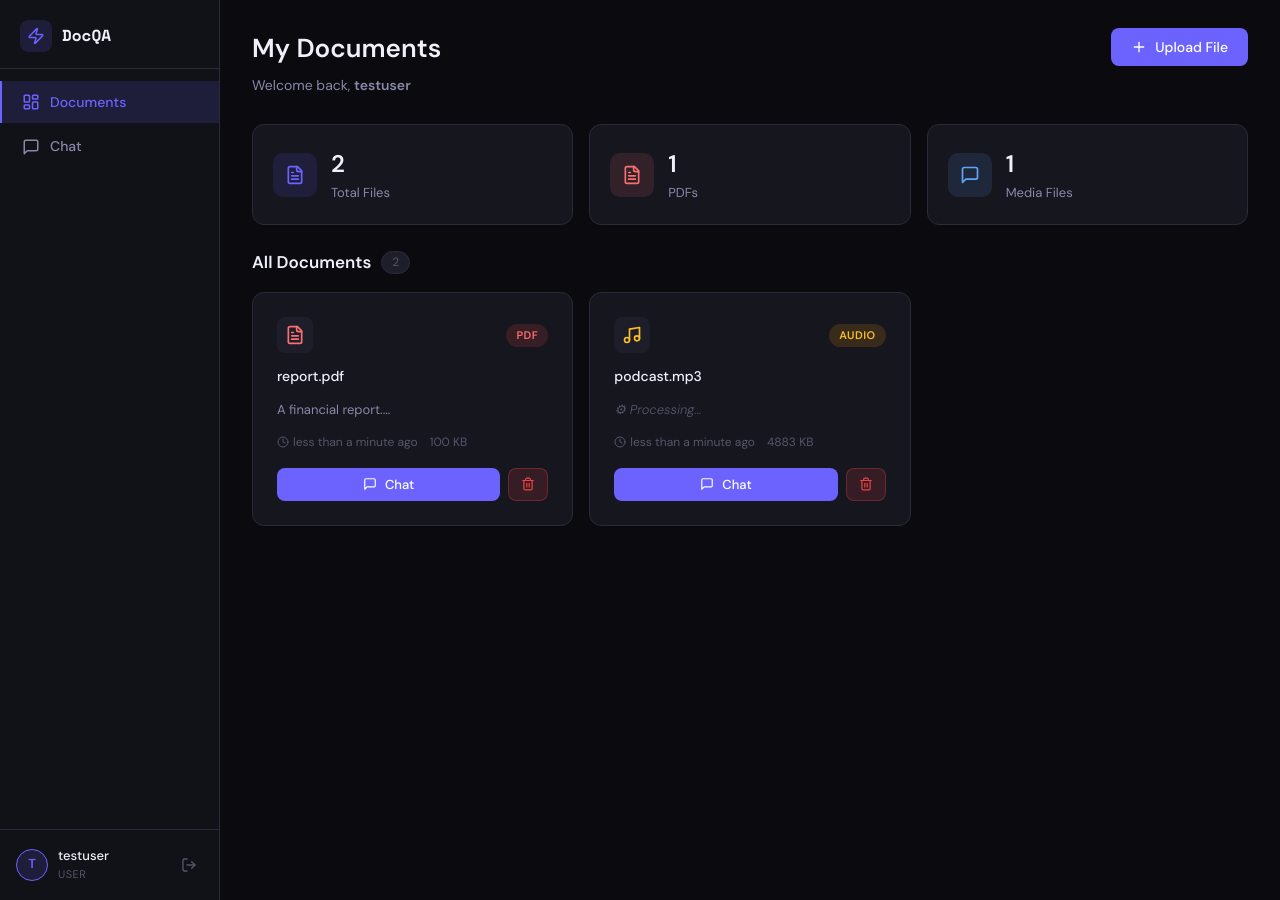
Dashboard › shows upload zone when Upload button clicked
The width and height of the screenshot is (1280, 900).
Click the button "Upload File" at (1180, 47), box [1111,28,1248,66]
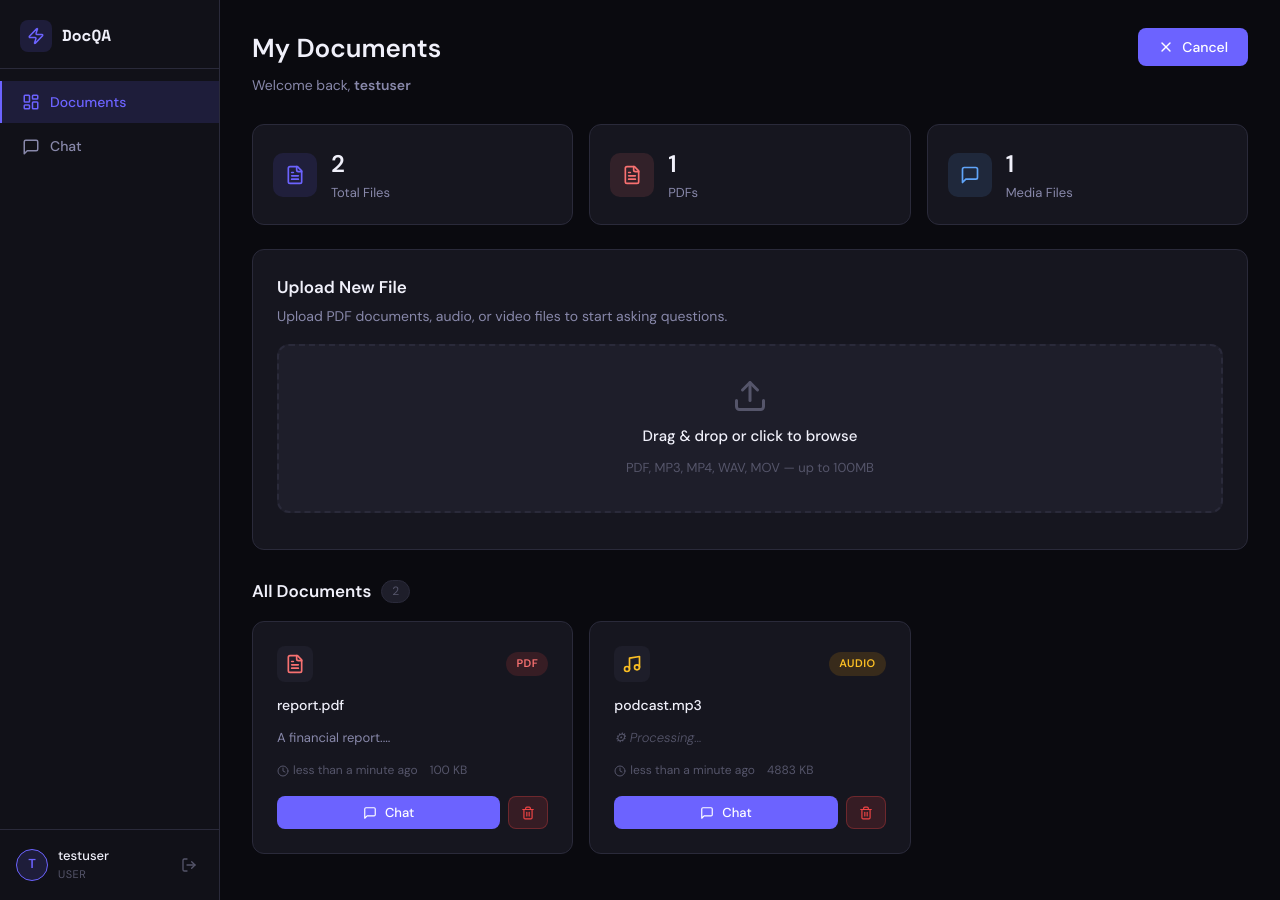
Check: the text "Drag & drop or click to browse" is shown, box [642,424,857,448]
